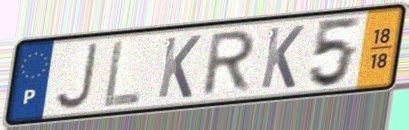5: (308, 14, 366, 89)
J: (52, 40, 101, 112)
K: (154, 33, 204, 101), (258, 23, 307, 91)
L: (101, 37, 144, 110)
R: (198, 27, 260, 99)
